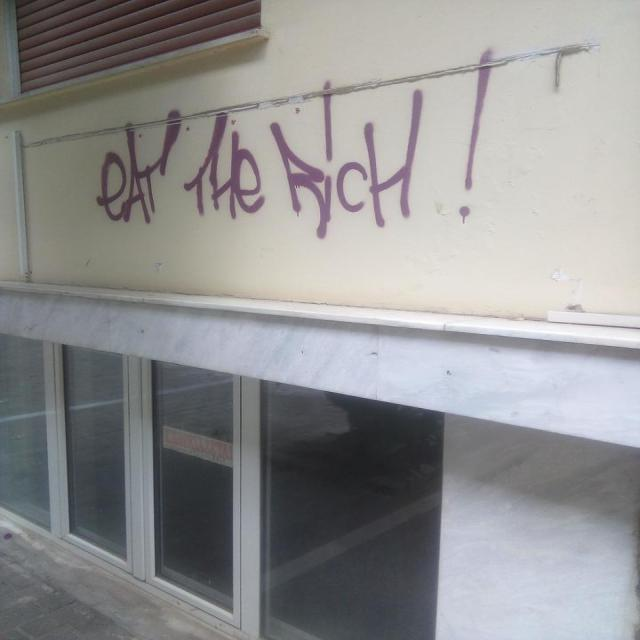nonspitting: (98, 50, 497, 238)
